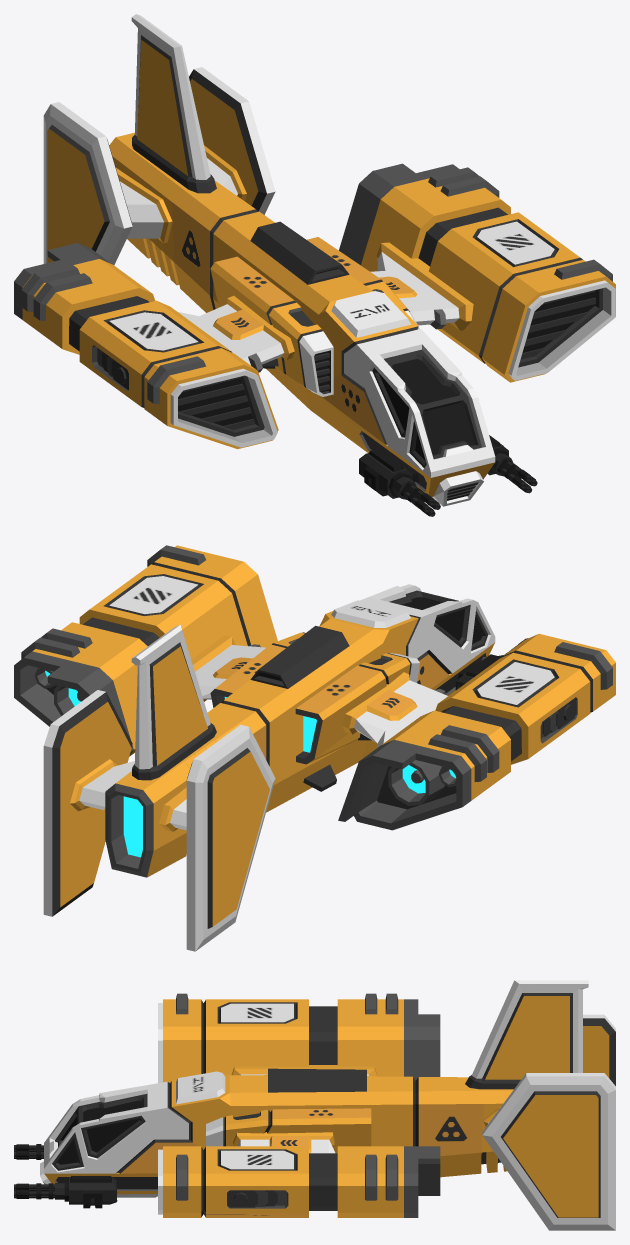
Rendered from Sci-Fi Ship.fbx.
3 renders of one model, top to bottom at view 1: azimuth 30°, elevation 25°; view 2: azimuth 150°, elevation 25°; view 3: azimuth 270°, elevation 25°, orthographic. The views are drawn at different scales.
Parts seen in each view (by area): view 1: Sci-Fi Ship, Sci-Fi Ship_Gun; view 2: Sci-Fi Ship; view 3: Sci-Fi Ship, Sci-Fi Ship_Gun.
Boxes of the visible parts, x1=… form: Sci-Fi Ship: x1=14, y1=14, x2=615, y2=506; Sci-Fi Ship_Gun: x1=359, y1=435, x2=537, y2=516; Sci-Fi Ship: x1=14, y1=545, x2=615, y2=951; Sci-Fi Ship: x1=40, y1=980, x2=615, y2=1230; Sci-Fi Ship_Gun: x1=14, y1=1144, x2=117, y2=1208.
Bounding box in the file's own units: 2.83 × 1.55 × 3.86.
